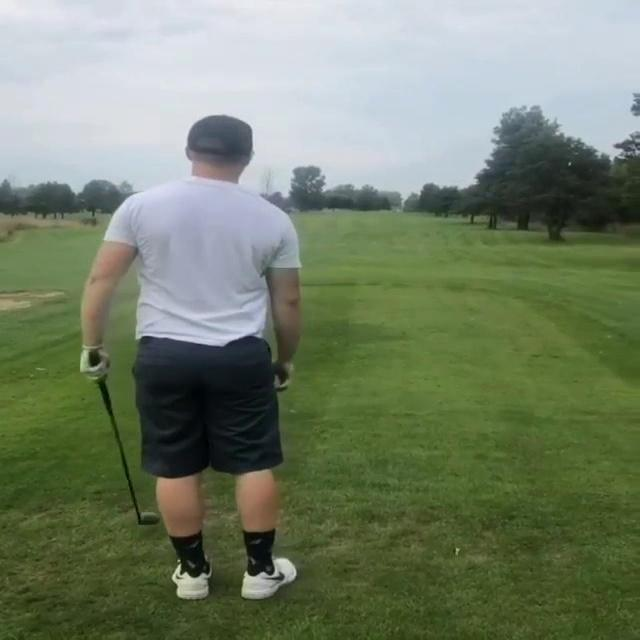ClubHead: (137, 509, 155, 526)
